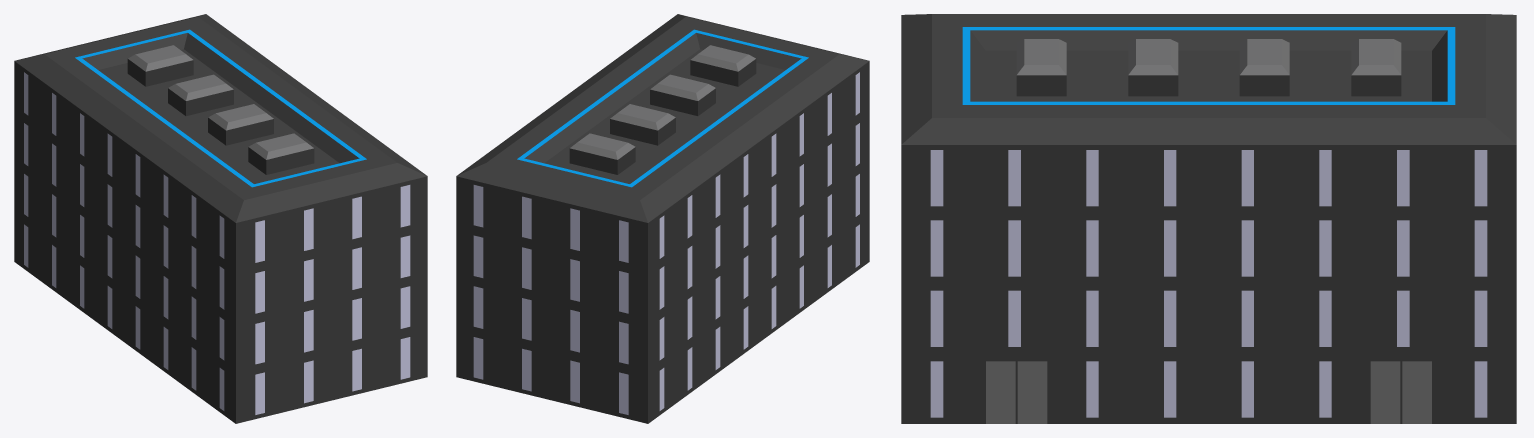
File: Residential_C.fbx
3 views of the same model, side by side, from view 1: azimuth 30°, elevation 25°; view 2: azimuth 150°, elevation 25°; view 3: azimuth 270°, elevation 25° (orthographic). The views are drawn at different scales.
Parts seen in each view (by area): view 1: Cube, Cube.001; view 2: Cube, Cube.001; view 3: Cube, Cube.001.
Boxes of the visible parts, left/top/right/bottom form: Cube: left=14, top=14, right=427, bottom=423; Cube.001: left=24, top=72, right=410, bottom=414; Cube: left=456, top=14, right=869, bottom=423; Cube.001: left=473, top=72, right=859, bottom=414; Cube: left=901, top=14, right=1516, bottom=423; Cube.001: left=930, top=150, right=1487, bottom=417.
Size of the model in its own units: 2.02 by 2.2 by 4.04.
